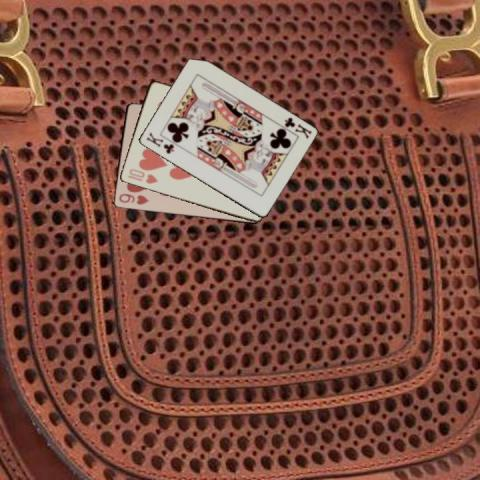10h: (125, 166, 159, 185)
9h: (116, 191, 150, 206)
Kc: (143, 130, 175, 156), (281, 115, 313, 140)
